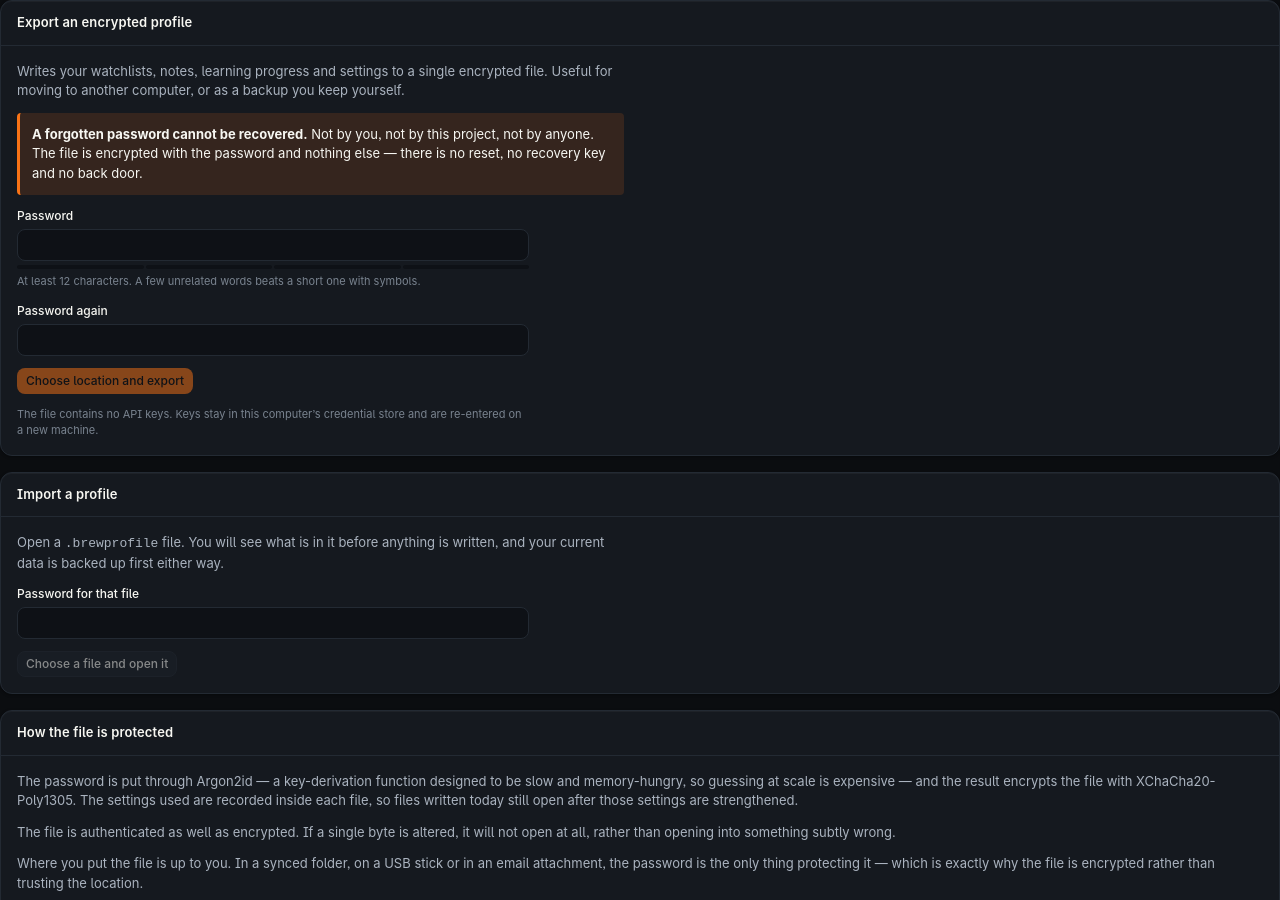
Scenario: exporting a profile › writes a file and reports where it went
In the password field labelled "Password": (273, 245) [17,229,529,261], type "correct horse battery staple"
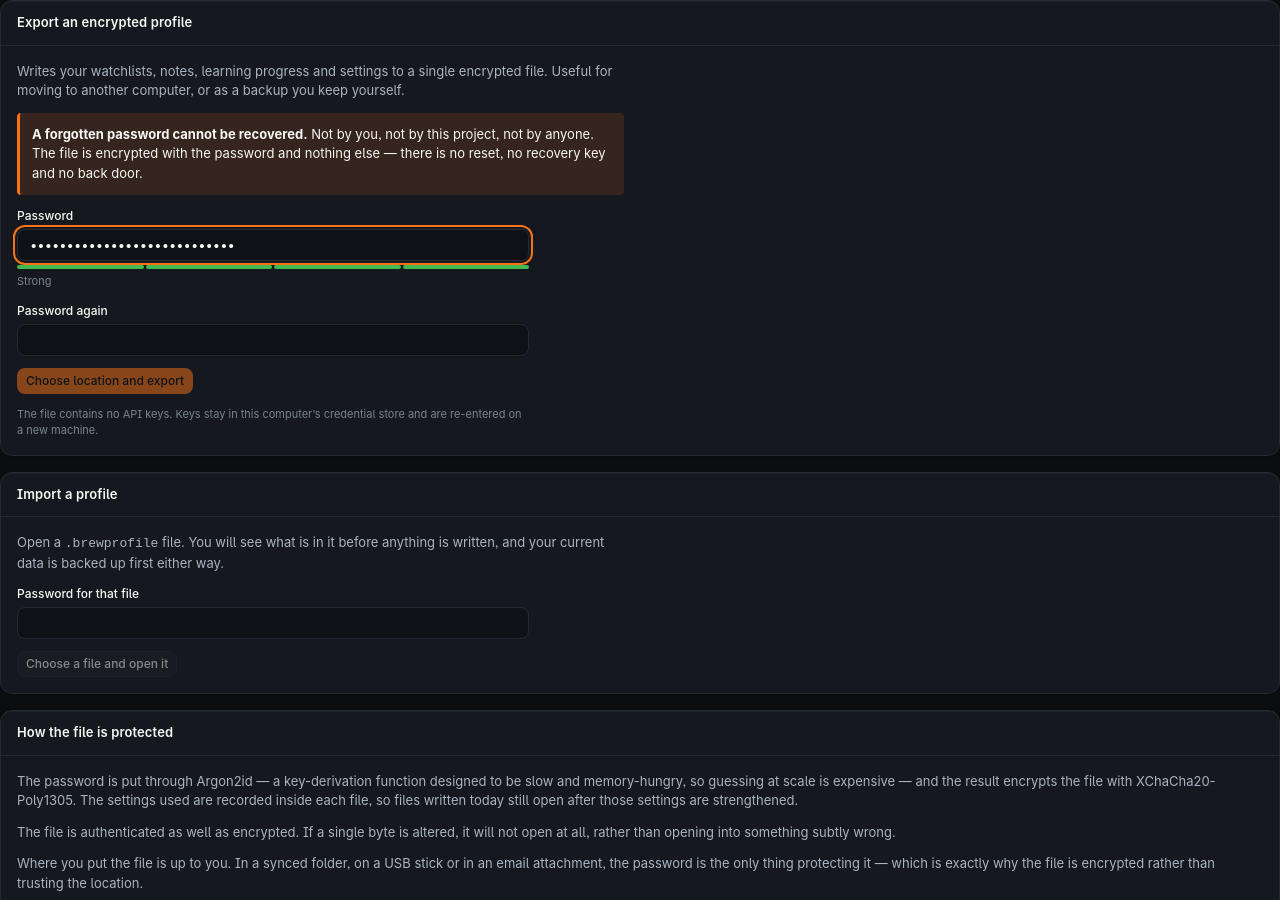
In the password field labelled "Password again": (273, 340) [17,324,529,356], type "correct horse battery staple"
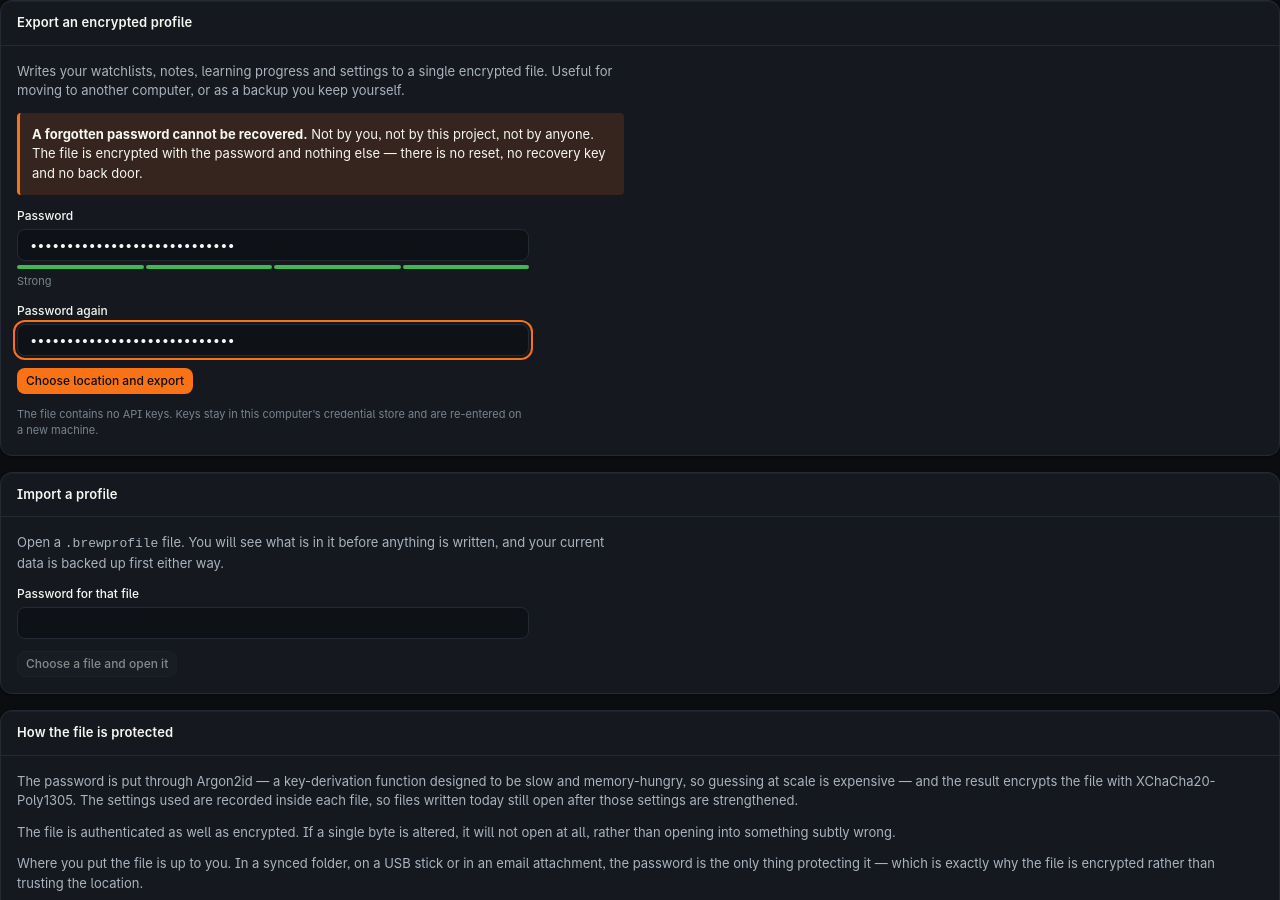
Click the button "Choose location and export": (105, 380) [17,368,193,394]
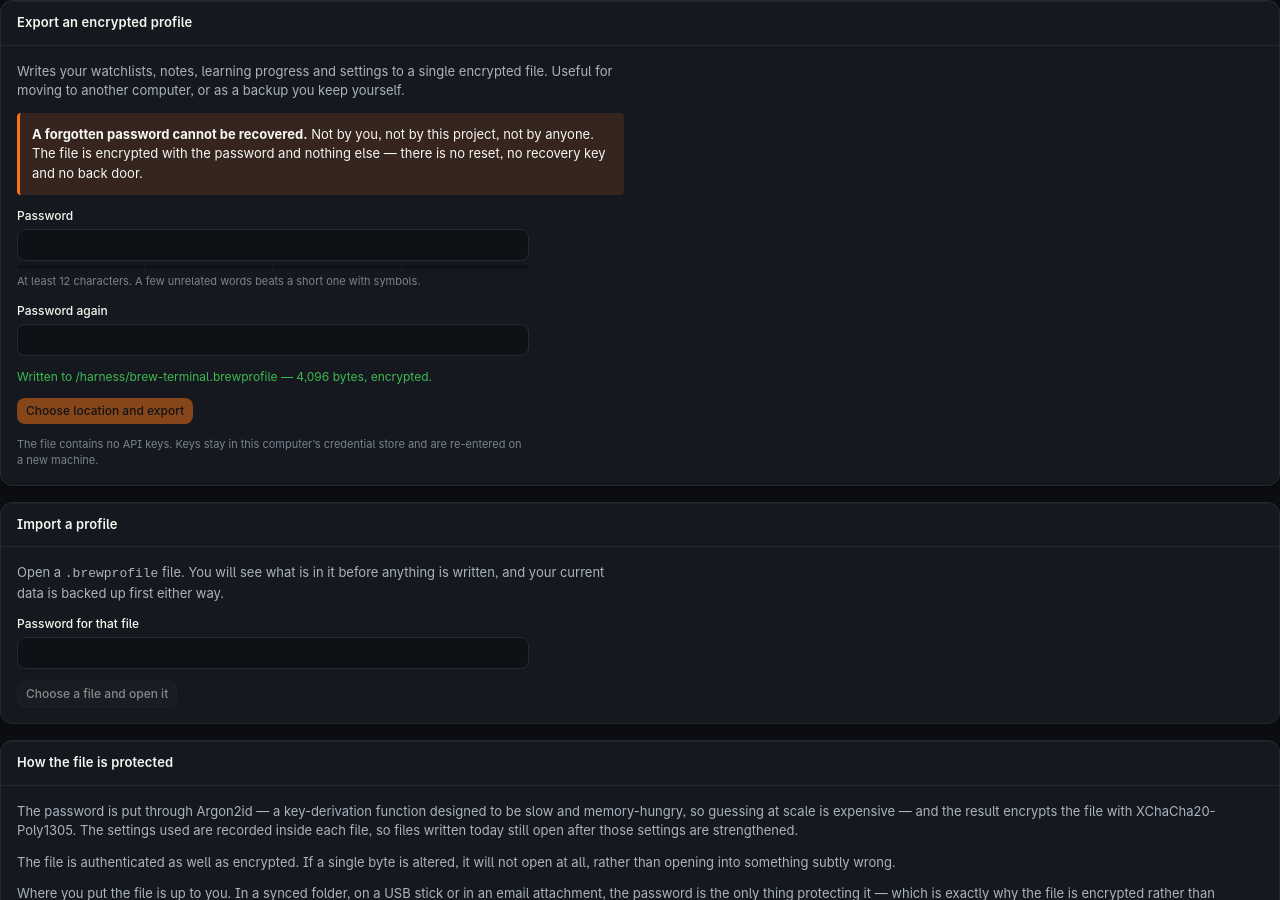
Check: the text "Written to /harness/brew-terminal.brewprofile — 4,096 bytes, encrypted." is shown, box [17,368,432,384]
